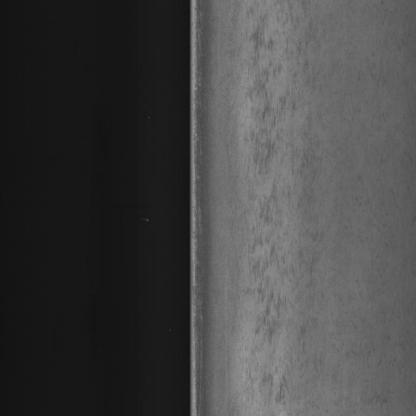silk_spot: (236, 19, 312, 416)
